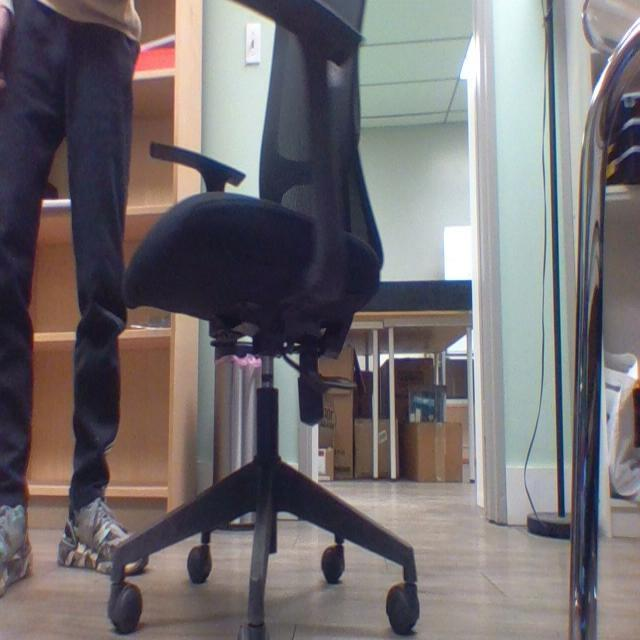chair: (108, 0, 419, 640)
